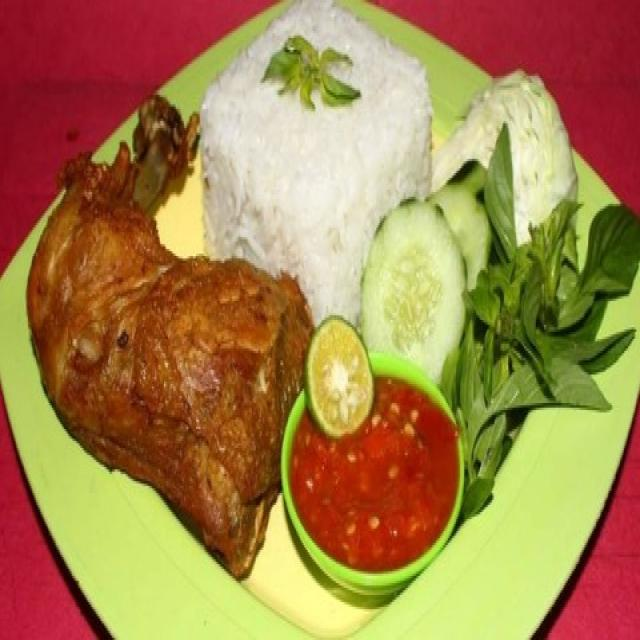Frango: (28, 90, 319, 578), (197, 0, 433, 360)
